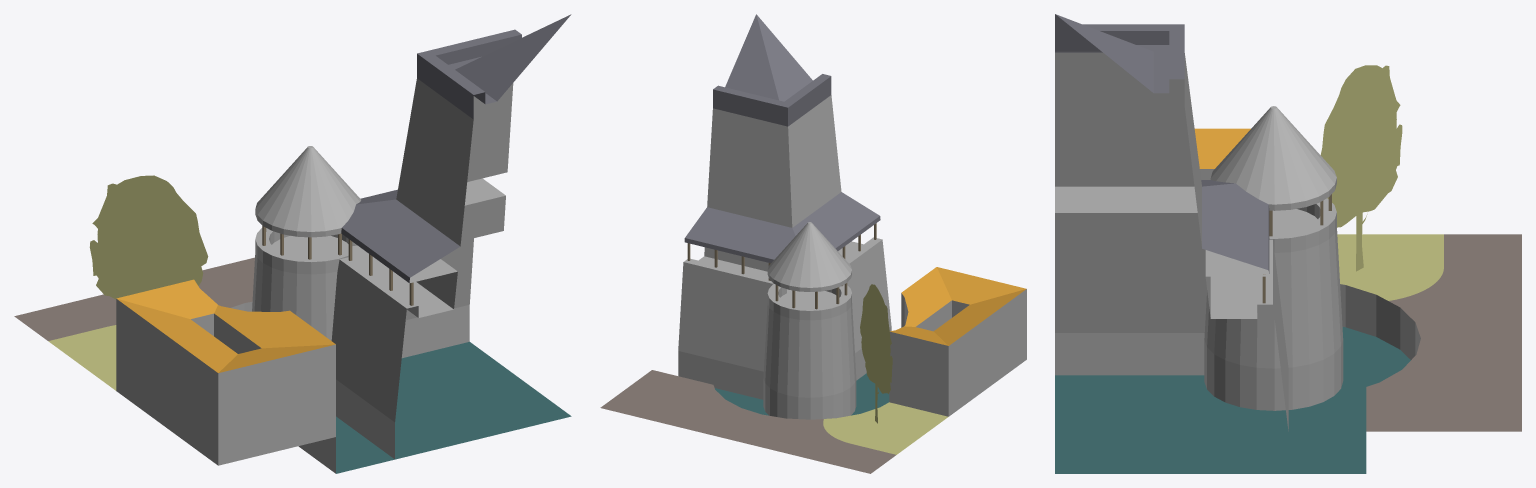
File: rrc2.obj
3 views of the same model, side by side, from view 1: azimuth 30°, elevation 25°; view 2: azimuth 150°, elevation 25°; view 3: azimuth 270°, elevation 25° (orthographic). The views are drawn at different scales.
Visible parts, largest first — view 1: rrc2; view 2: rrc2; view 3: rrc2.
Part boxes in pixels (x1=…): rrc2: x1=14, y1=14, x2=571, y2=473; rrc2: x1=600, y1=14, x2=1026, y2=473; rrc2: x1=1055, y1=14, x2=1521, y2=473.
Bounding box in the file's own units: 30 × 32.63 × 30.
